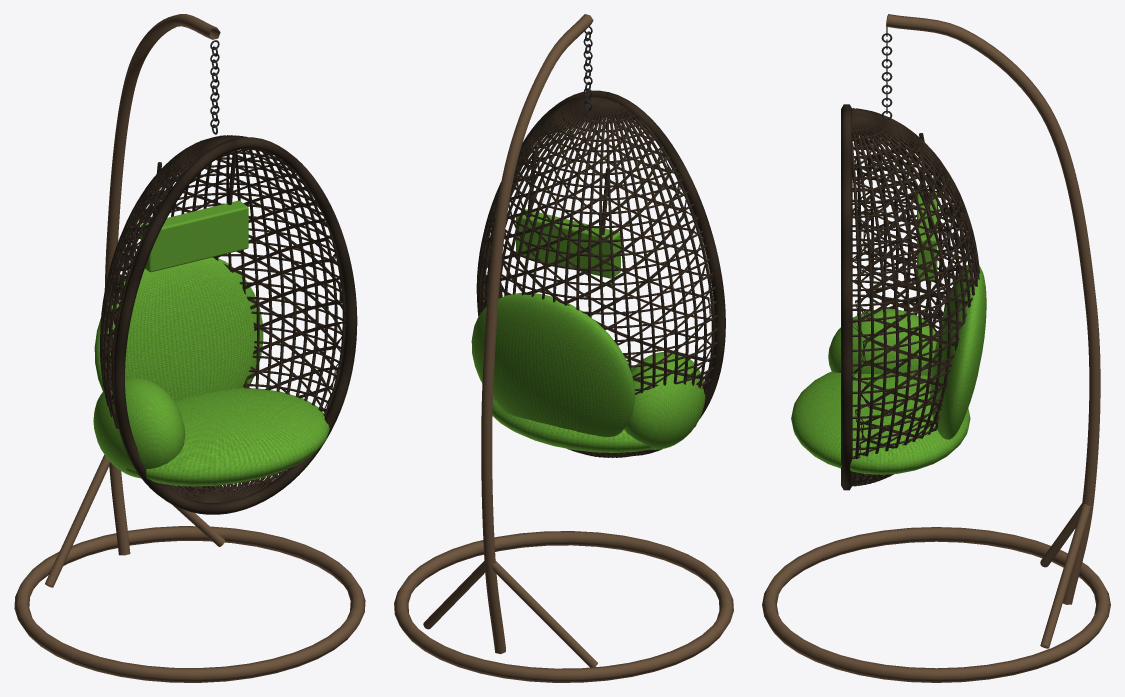
File: 03-hanging-egg-chair.glb
3 views of the same model, side by side, from view 1: azimuth 30°, elevation 25°; view 2: azimuth 150°, elevation 25°; view 3: azimuth 270°, elevation 25° (orthographic). The views are drawn at different scales.
Parts seen in each view (by area): view 1: Lime green fabric, Woven brown rattan, Bronze chair stand, Charcoal steel; view 2: Woven brown rattan, Lime green fabric, Bronze chair stand, Charcoal steel; view 3: Woven brown rattan, Bronze chair stand, Lime green fabric.
Boxes of the visible parts, left/top/right/bottom form: Lime green fabric: left=93, top=200, right=329, bottom=486; Woven brown rattan: left=100, top=135, right=357, bottom=514; Bronze chair stand: left=14, top=14, right=365, bottom=682; Charcoal steel: left=210, top=40, right=219, bottom=134; Woven brown rattan: left=476, top=90, right=725, bottom=457; Lime green fabric: left=471, top=209, right=705, bottom=452; Bronze chair stand: left=394, top=14, right=733, bottom=682; Charcoal steel: left=583, top=26, right=592, bottom=116; Woven brown rattan: left=841, top=104, right=979, bottom=490; Bronze chair stand: left=762, top=14, right=1110, bottom=682; Lime green fabric: left=791, top=192, right=986, bottom=474.
Bounding box in the file's own units: 1.13 × 2.12 × 1.13.
4 materials, 2 textured.
